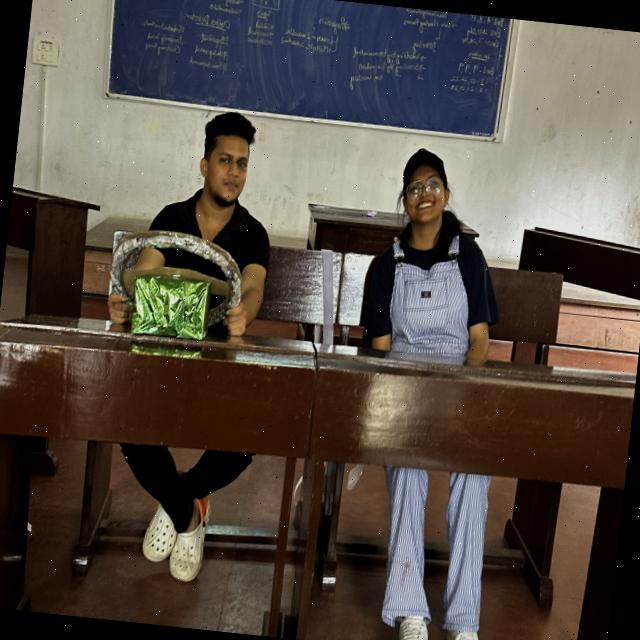no-seatbelt: (338, 218, 522, 368), (119, 180, 276, 342)
